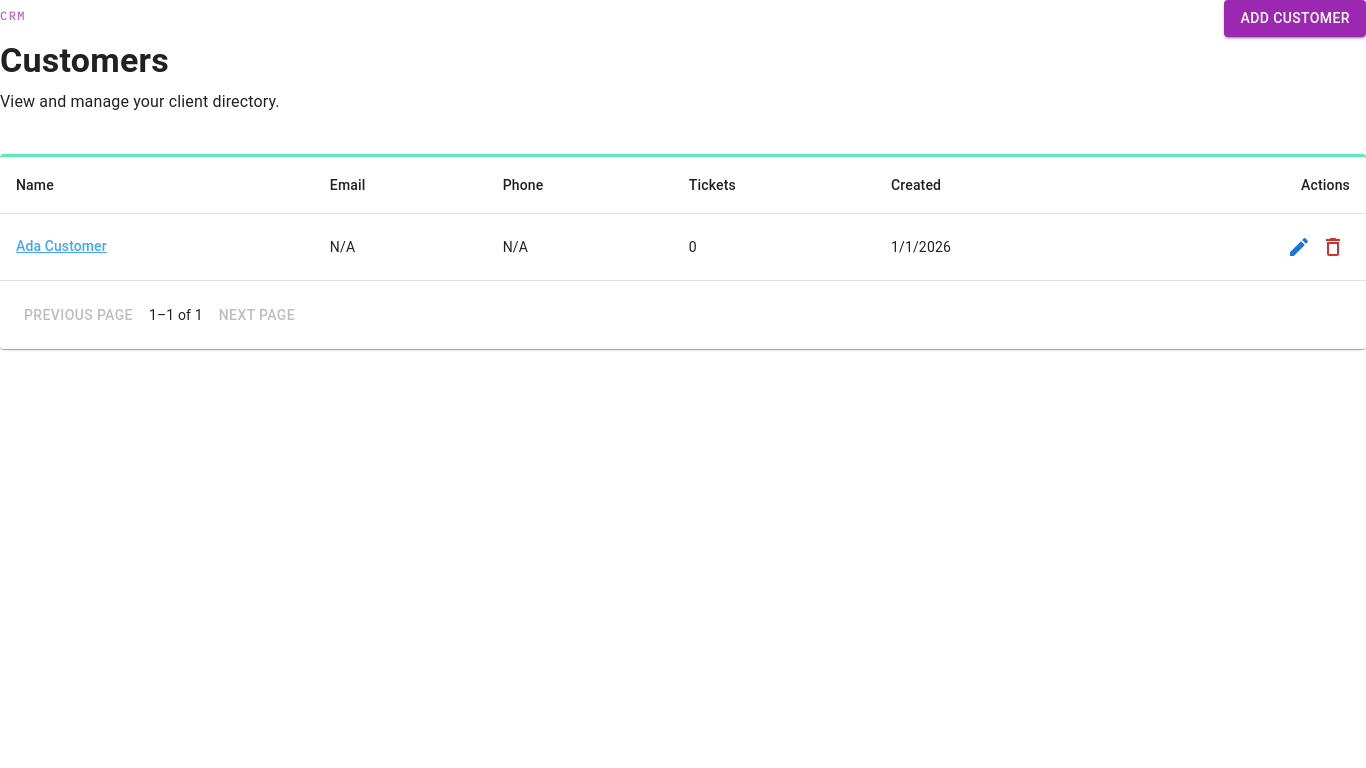
it: keeps safe inline errors in the dialog after 403
The width and height of the screenshot is (1366, 768).
Click the button named "Delete customer". click: (1333, 247)
box: [1316,230,1350,264]
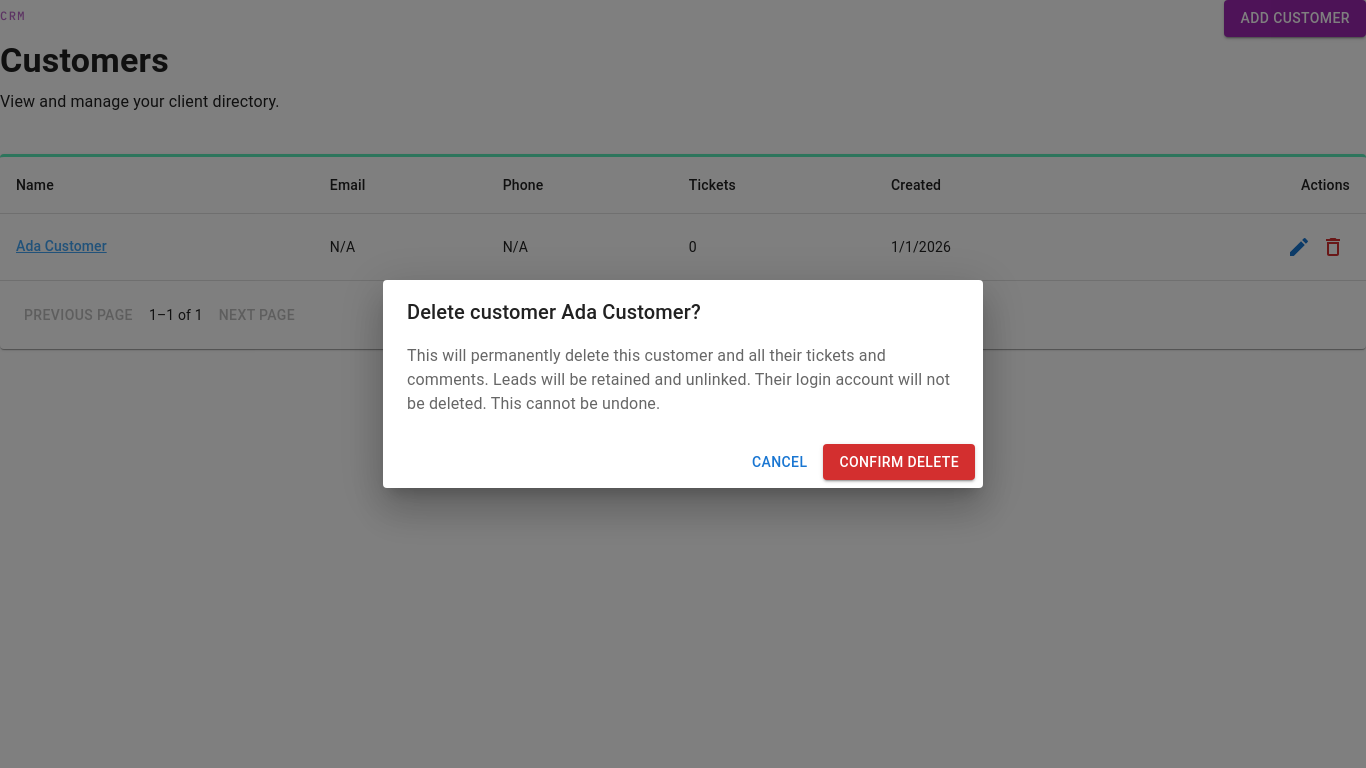
Click the button "Confirm delete". click: (899, 462)
box: [823,444,975,480]
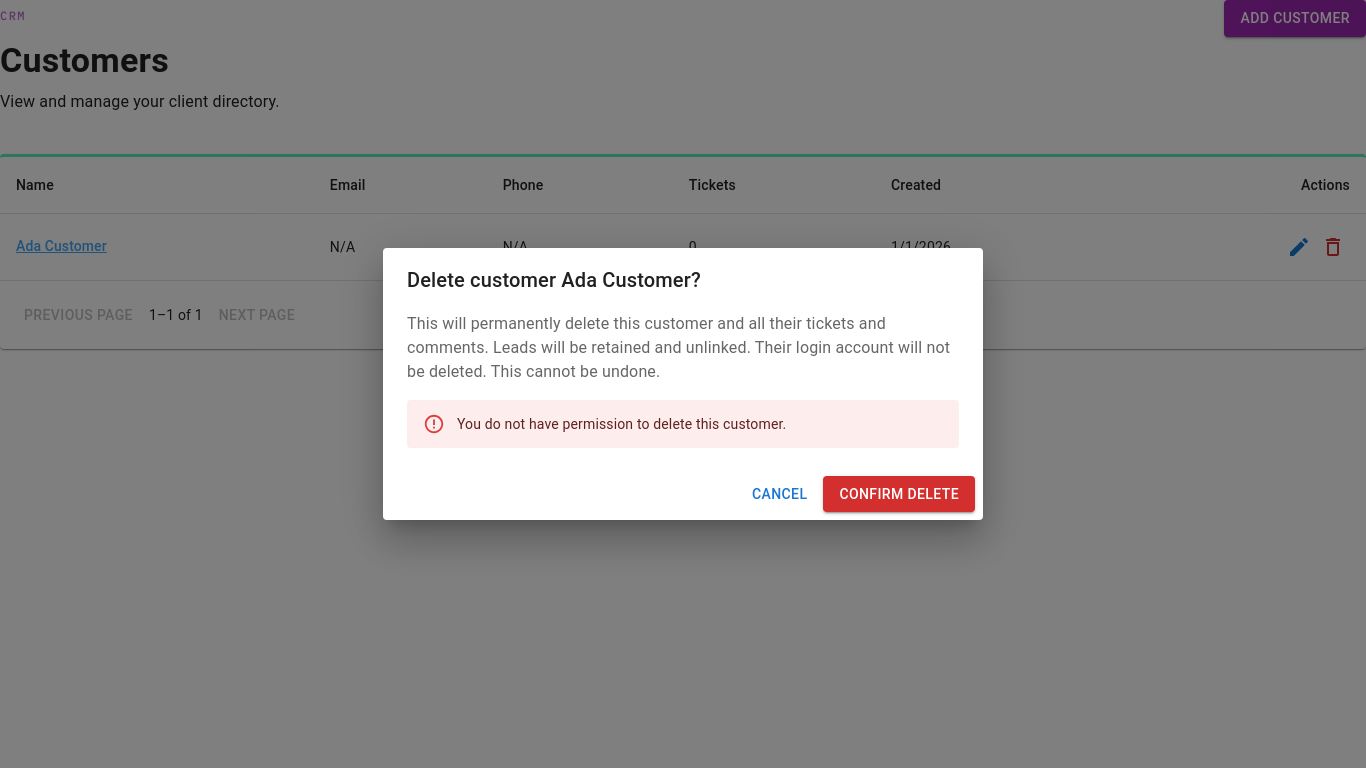
Expected: the dialog does not show "private database details", [383,248,983,520]
Expected: the button "Confirm delete" is enabled, [823,476,975,512]
Expected: the message shows "permission", [457,416,786,432]
